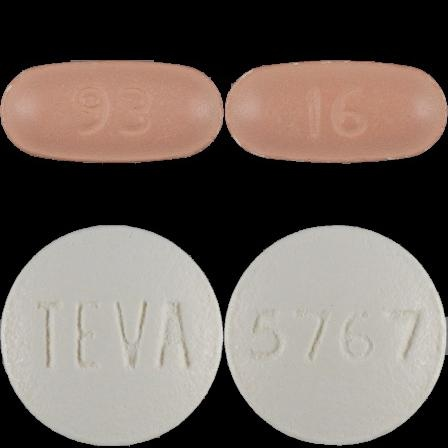0615-7667: (0, 0, 224, 224)
